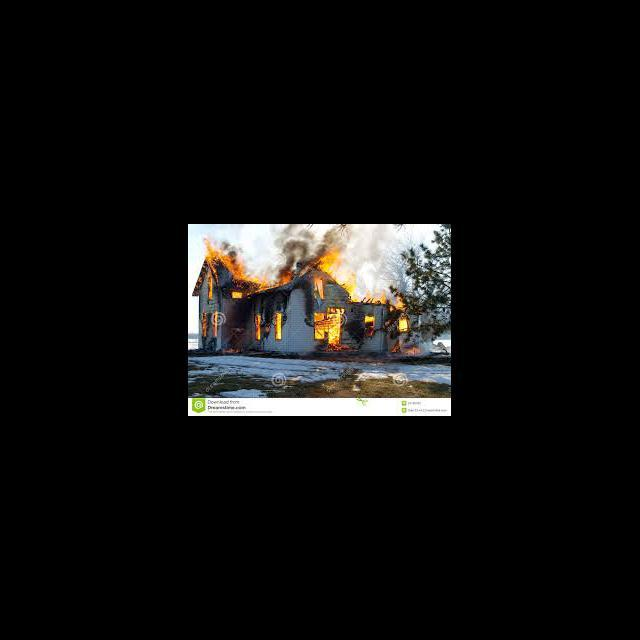Fire: (227, 254, 278, 289), (201, 239, 237, 274), (362, 288, 408, 310), (326, 248, 342, 286), (328, 306, 342, 346), (344, 268, 358, 304), (314, 312, 326, 342), (360, 310, 375, 328), (281, 268, 294, 288), (312, 278, 324, 298), (398, 314, 409, 332), (275, 312, 282, 340), (254, 316, 262, 340), (212, 310, 218, 338), (208, 275, 214, 301), (231, 292, 244, 300), (202, 314, 206, 338)
Smoke: (344, 224, 382, 273), (273, 224, 308, 266), (308, 226, 326, 262)
